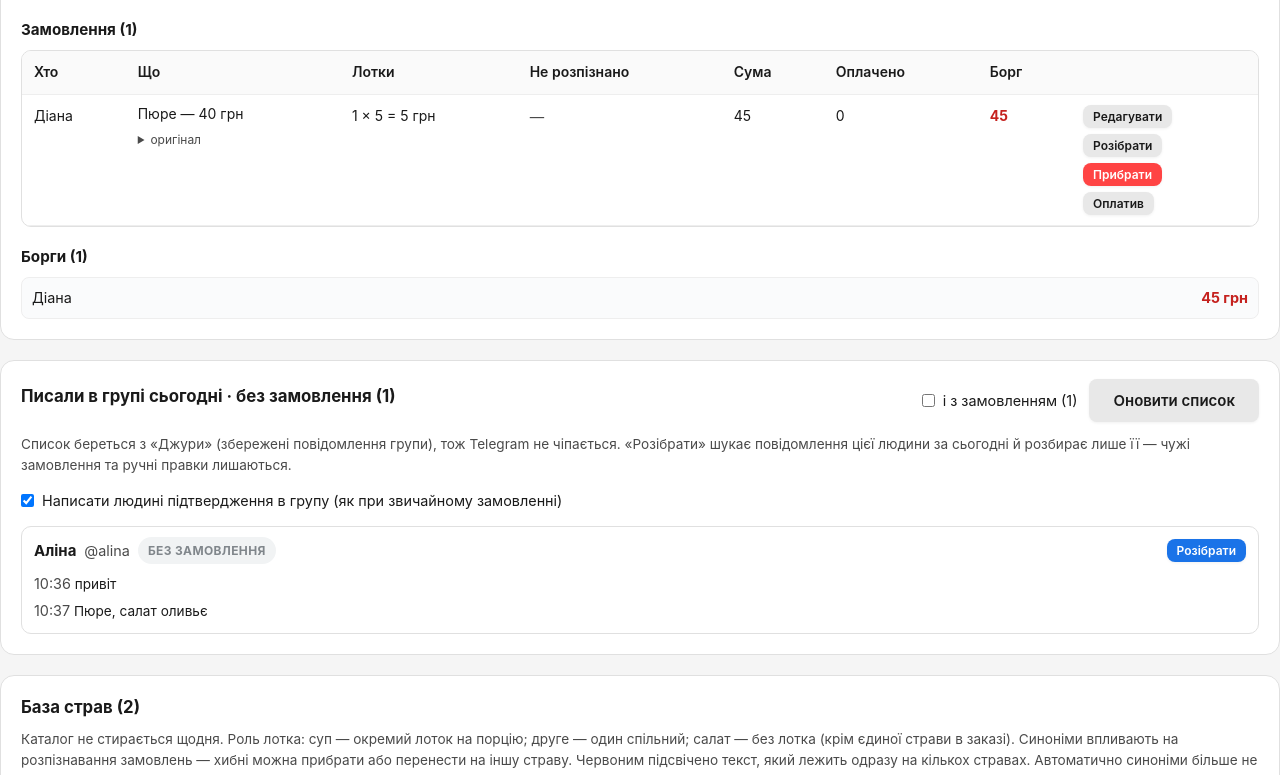
LunchTab · розбір окремої людини › панель показує лише тих, у кого немає замовлення; «і з замовленням» розкриває решту
The image size is (1280, 775).
(page scrolled)
Expected: the heading "Писали в групі сьогодні · без замовлення (1)" is shown, [21,383,396,410]
Expected: the text "Аліна" is shown, [34,539,76,563]
Click the checkbox labelled "і з замовленням (1)" at (928, 400), box [922,394,935,406]
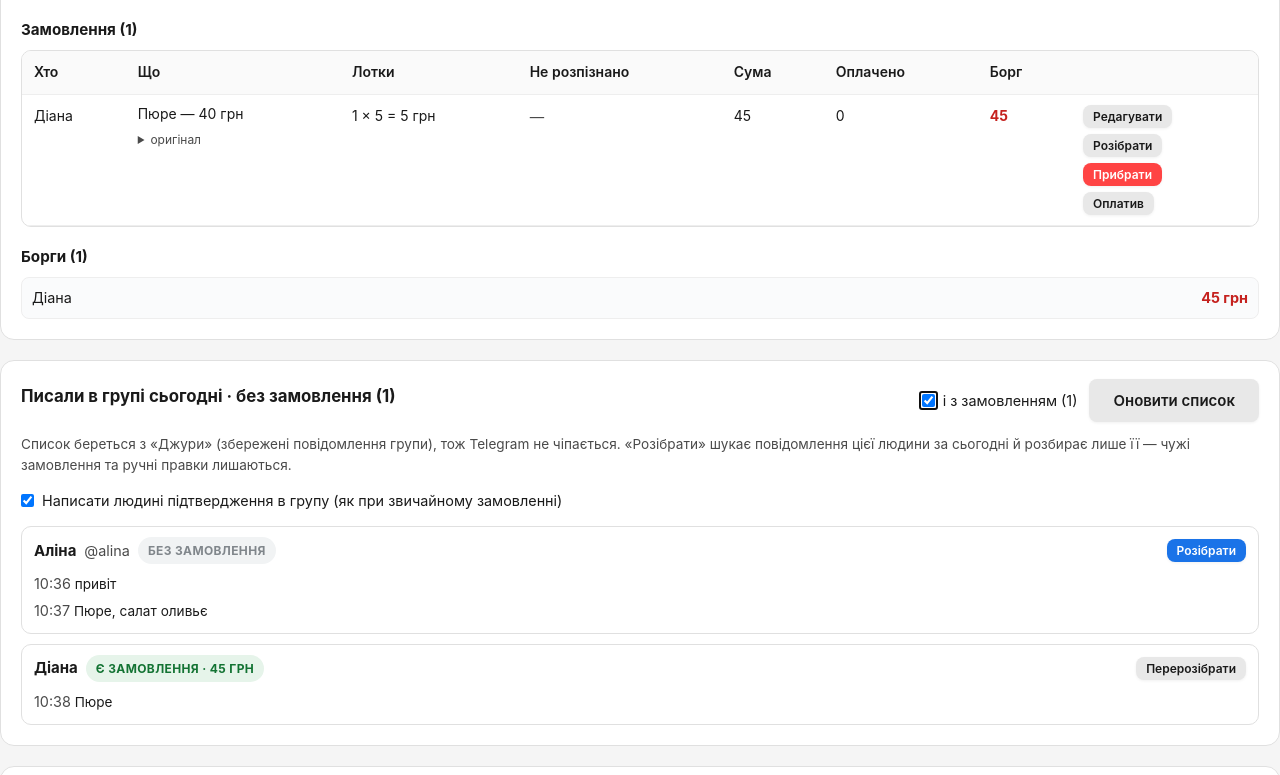
Now the text "Діана" next to "є замовлення · 45 грн" is shown, box [34,658,78,677]
Now the button "Перерозібрати" is shown, box [1136,657,1246,680]
